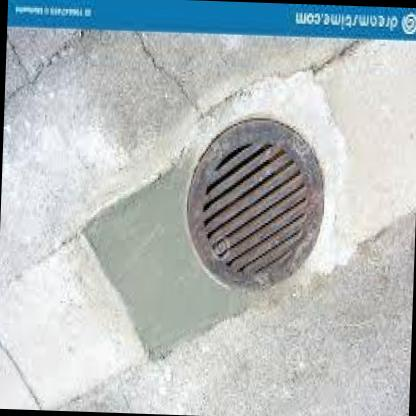manholes: (165, 108, 347, 308)
